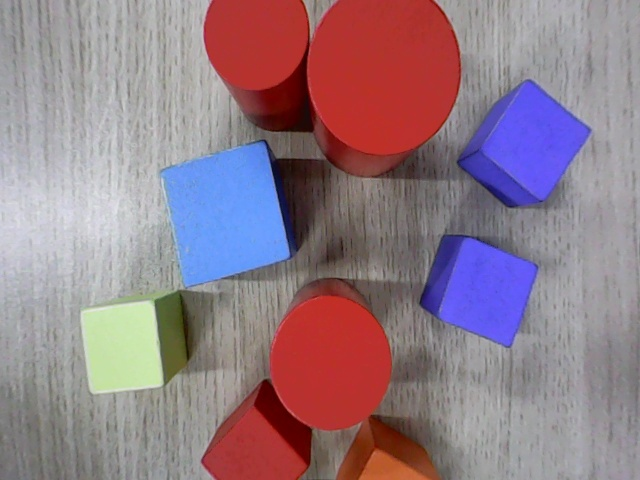upside of big cube: (159, 137, 292, 292)
upside of cylinder: (307, 0, 462, 156), (270, 296, 393, 432), (203, 0, 309, 90)
upside of small cube: (480, 79, 594, 205), (435, 237, 539, 348), (199, 405, 309, 479), (79, 300, 164, 395), (356, 447, 437, 479)
